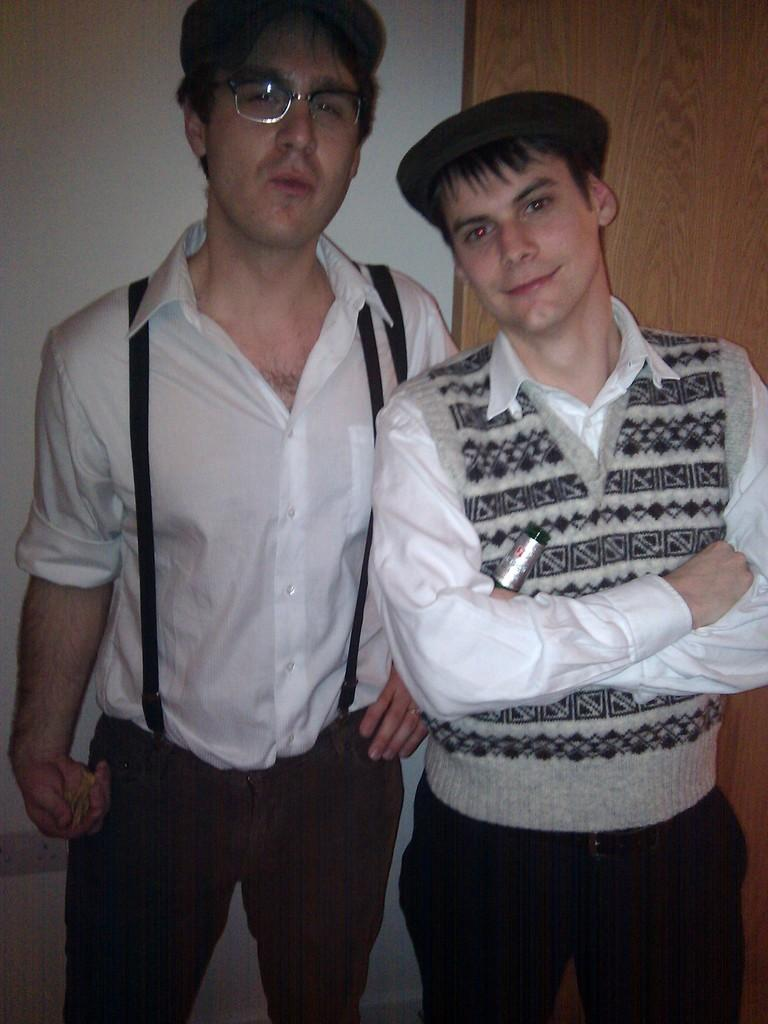Hat: (395, 90, 609, 230), (176, 0, 392, 106)
